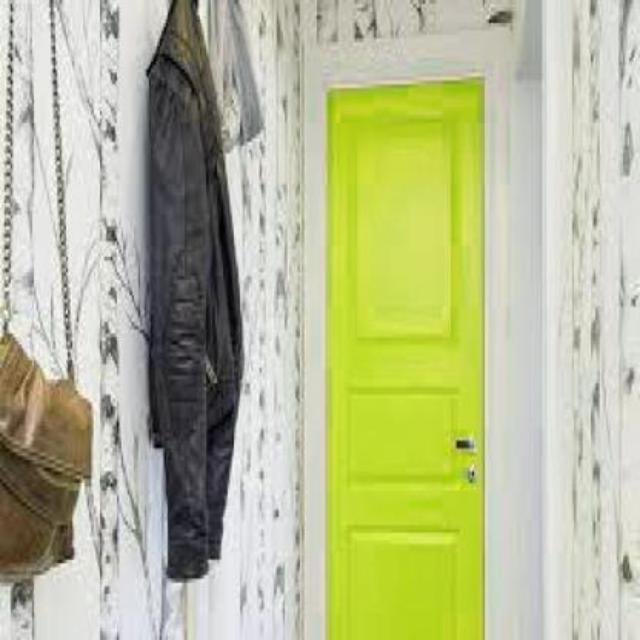door: (322, 73, 486, 639)
